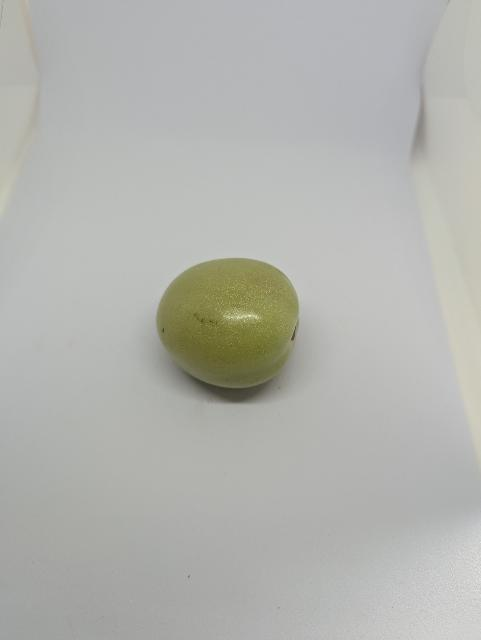green: (143, 244, 321, 416)
